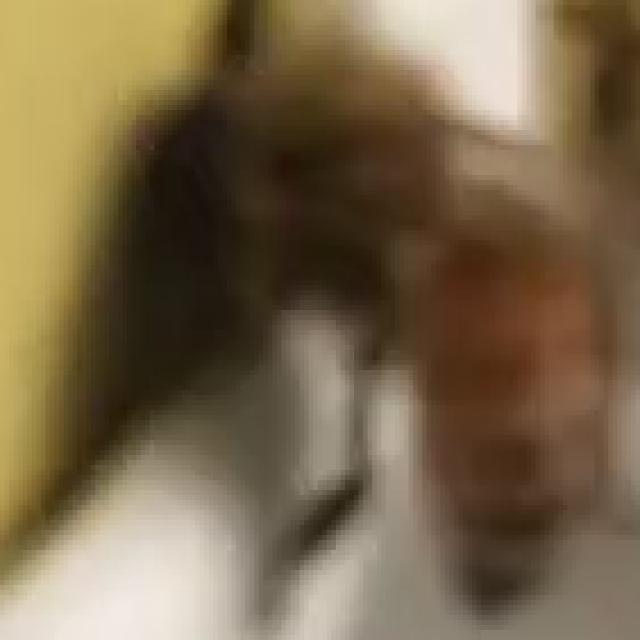honeybee: (129, 94, 622, 618)
